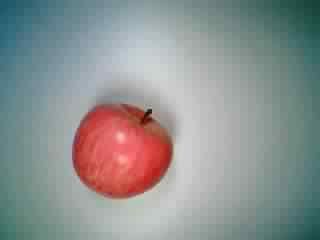apple: (70, 100, 174, 204)
